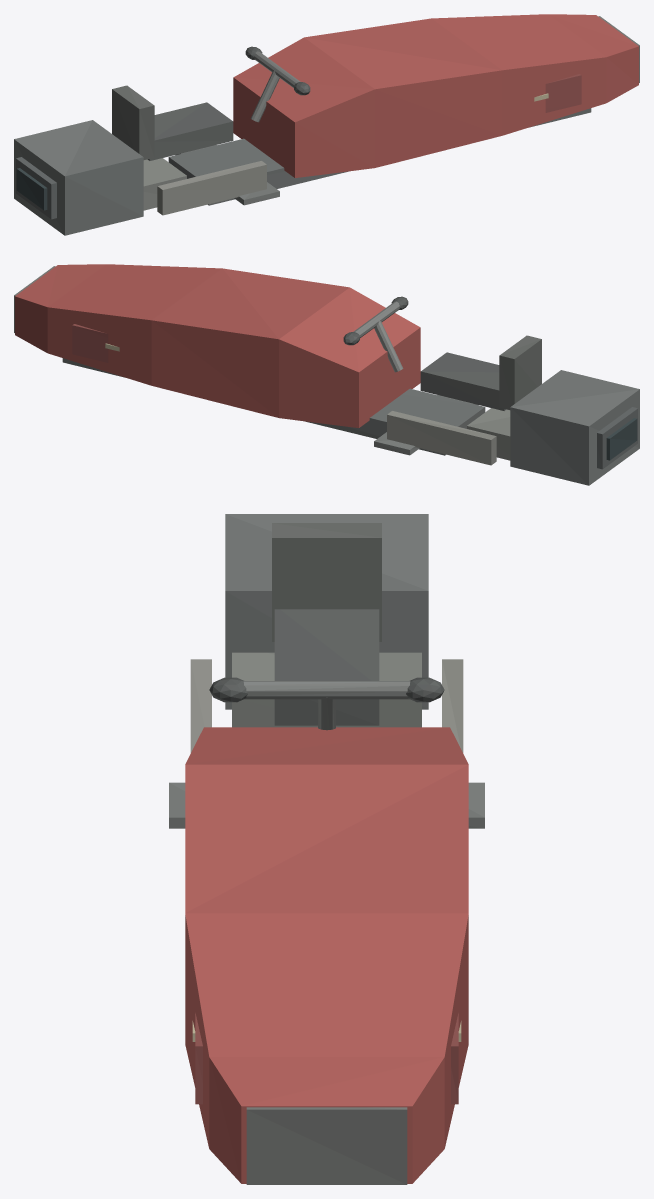
File: spacebike_red_off.glb
3 views of the same model, one above another, from view 1: azimuth 30°, elevation 25°; view 2: azimuth 150°, elevation 25°; view 3: azimuth 270°, elevation 25° (orthographic). The views are drawn at different scales.
Parts seen in each view (by area): view 1: forward_hull, rear_engine_block, cockpit_side_-0.47, seat_base, underside_spine, seat_back, rear_frame, side_panel_-0.47, exhaust_frame, exhaust_inner, steering_column, handlebars (+1 smaller); view 2: forward_hull, rear_engine_block, cockpit_side_0.47, seat_base, underside_spine, seat_back, rear_frame, side_panel_0.47, exhaust_frame, exhaust_inner, steering_column, handlebars (+1 smaller); view 3: forward_hull, rear_engine_block, nose_bulkhead, seat_base, seat_back, rear_frame, handlebars, cockpit_side_-0.47, cockpit_side_0.47.
Boxes of the visible parts, <box> form: forward_hull: <box>233,14,638,177</box>; rear_engine_block: <box>14,120,143,235</box>; cockpit_side_-0.47: <box>157,161,266,215</box>; seat_base: <box>147,102,233,160</box>; underside_spine: <box>168,108,591,205</box>; seat_back: <box>112,85,154,159</box>; rear_frame: <box>143,158,186,210</box>; side_panel_-0.47: <box>545,74,581,112</box>; exhaust_frame: <box>16,157,56,219</box>; exhaust_inner: <box>16,168,47,210</box>; steering_column: <box>250,70,279,122</box>; handlebars: <box>254,51,300,87</box>; forward_hull: <box>15,264,420,427</box>; rear_engine_block: <box>510,370,639,485</box>; cockpit_side_0.47: <box>387,411,496,465</box>; seat_base: <box>420,352,506,410</box>; underside_spine: <box>62,358,485,455</box>; seat_back: <box>499,335,541,409</box>; rear_frame: <box>467,408,510,460</box>; side_panel_0.47: <box>72,324,108,362</box>; exhaust_frame: <box>597,407,637,469</box>; exhaust_inner: <box>606,418,637,460</box>; steering_column: <box>374,320,403,372</box>; handlebars: <box>353,301,399,337</box>; forward_hull: <box>185,727,468,1183</box>; rear_engine_block: <box>225,514,428,709</box>; nose_bulkhead: <box>246,1107,407,1184</box>; seat_base: <box>274,609,379,725</box>; seat_back: <box>272,523,381,641</box>; rear_frame: <box>232,652,421,727</box>; handlebars: <box>243,681,410,699</box>; cockpit_side_-0.47: <box>190,659,211,752</box>; cockpit_side_0.47: <box>442,659,463,752</box>.
Bounding box in the file's own units: 5.09 × 0.885 × 1.18.
